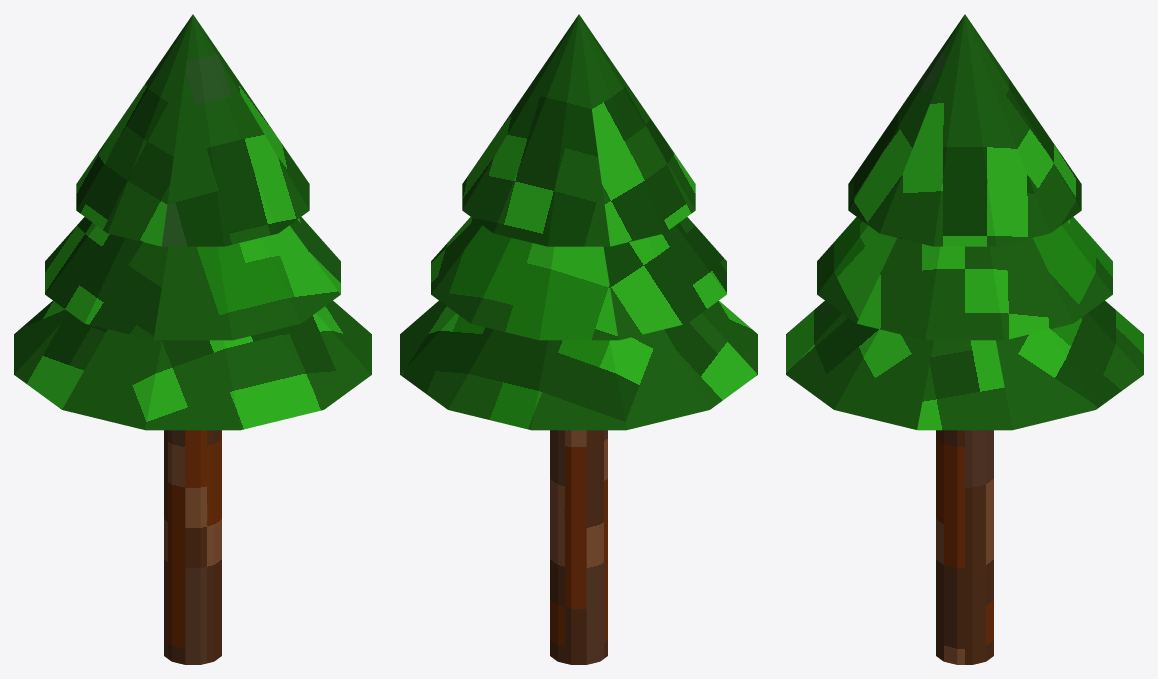
Rendered from Tree.gltf.
The picture shows the model from 3 angles, left to right: view 1: azimuth 30°, elevation 25°; view 2: azimuth 150°, elevation 25°; view 3: azimuth 270°, elevation 25°; orthographic projection.
Parts seen in each view (by area): view 1: cone (×3), cylinder; view 2: cone (×3), cylinder; view 3: cone (×3), cylinder.
Boxes of the visible parts, left/top/right/bottom form: cone (×3): left=14, top=14, right=371, bottom=430; cylinder: left=164, top=430, right=221, bottom=664; cone (×3): left=400, top=14, right=757, bottom=430; cylinder: left=550, top=430, right=607, bottom=664; cone (×3): left=786, top=14, right=1143, bottom=430; cylinder: left=936, top=430, right=993, bottom=664.
Size of the model in its own units: 2.01 by 3.96 by 2.01.
Materials: 2 (2 with a texture image).
